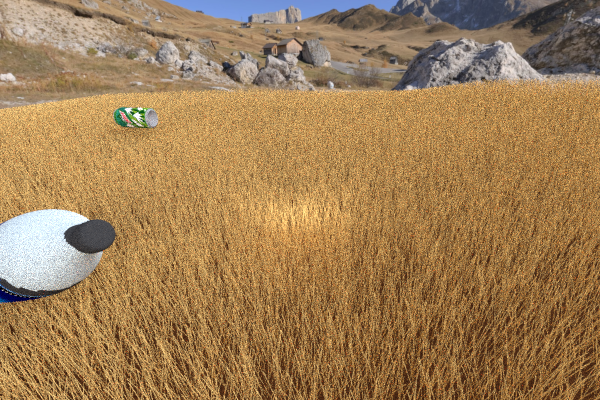bottle: (0, 209, 115, 306)
can: (113, 107, 158, 128)
